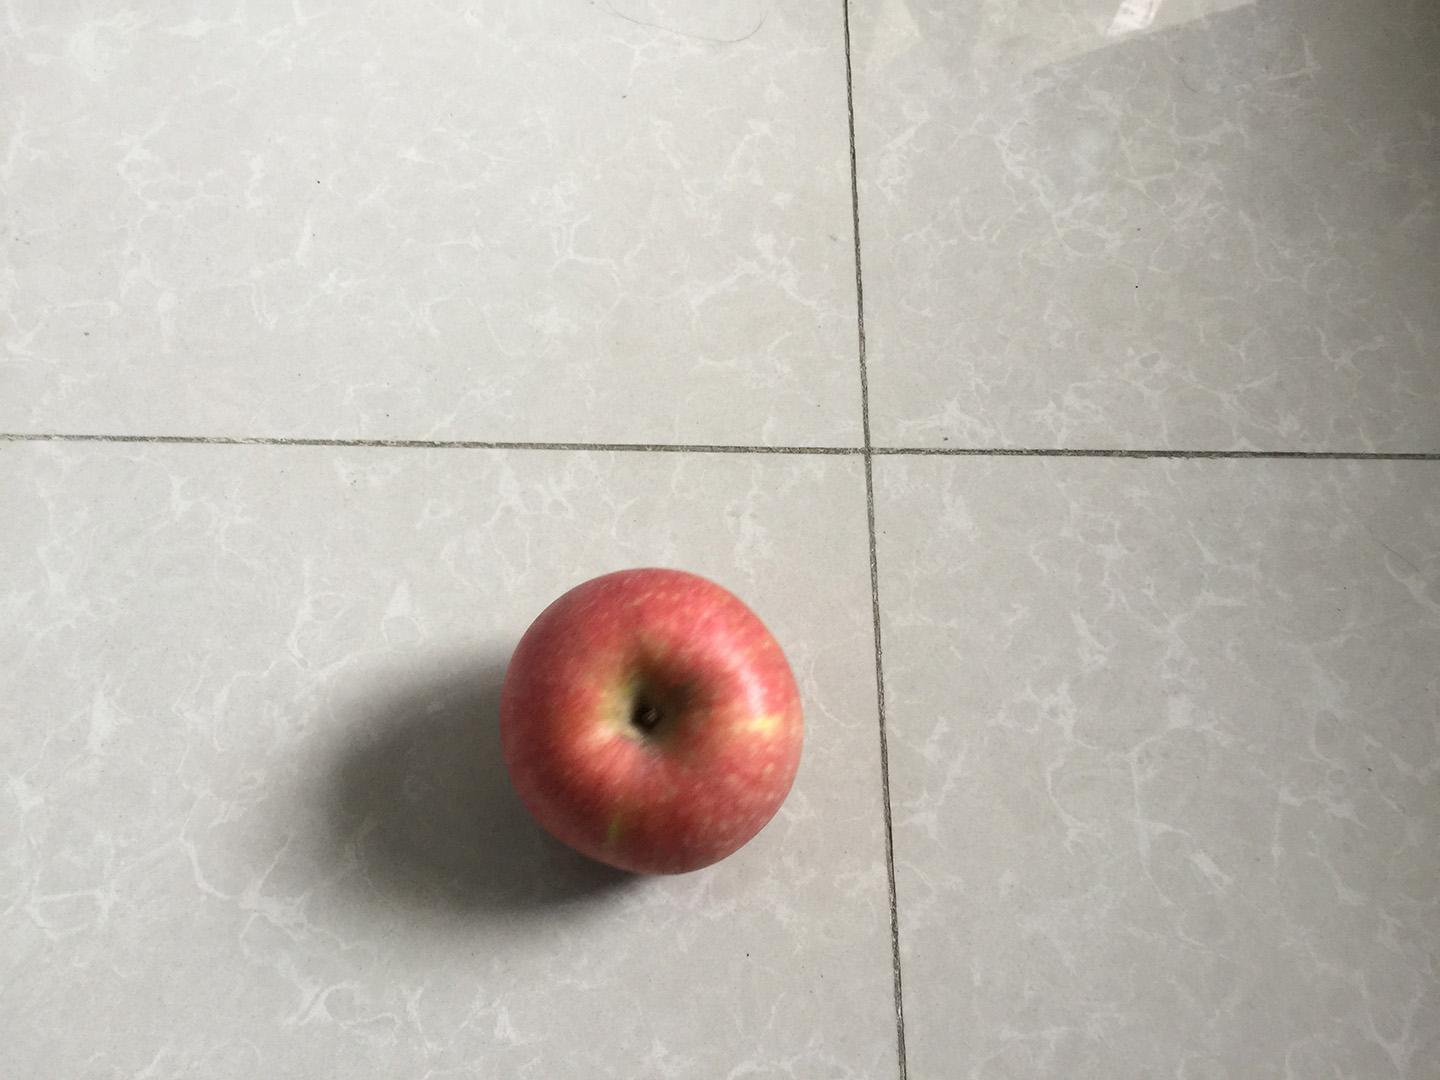apple: (490, 559, 814, 891)
